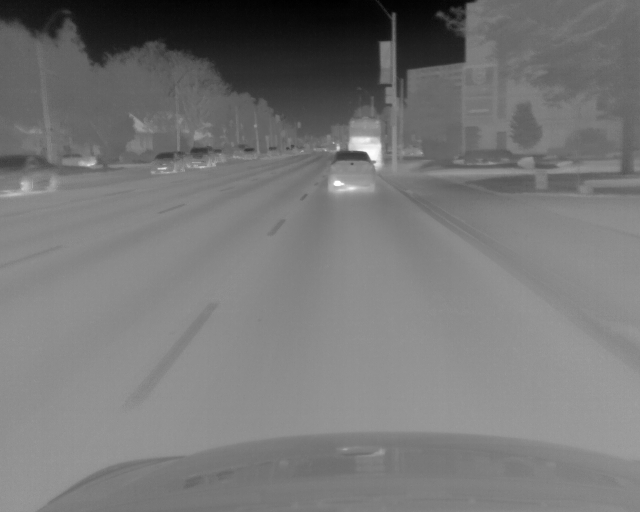car: (1, 155, 58, 197), (327, 150, 376, 192), (347, 116, 383, 173), (149, 153, 183, 174), (58, 151, 96, 168), (186, 147, 215, 169), (243, 147, 257, 162), (215, 148, 226, 165), (231, 144, 243, 159), (266, 146, 278, 157)
